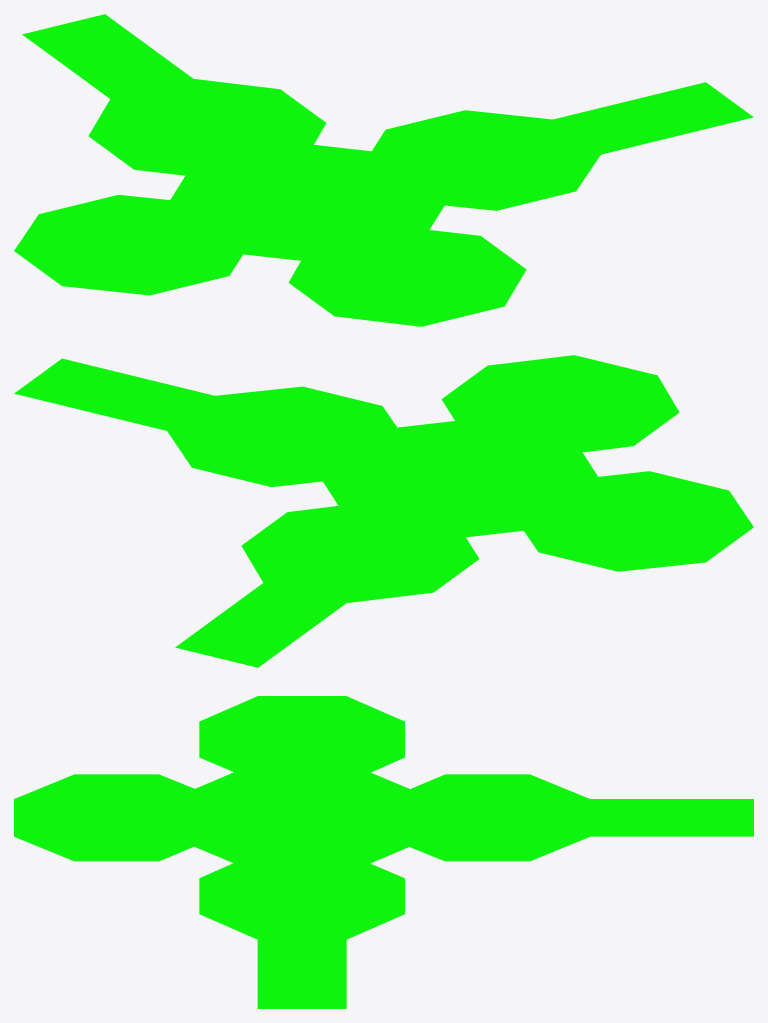
The model's file is s07a_lb1-floor.glb.
The picture shows the model from 3 angles, top to bottom: view 1: azimuth 30°, elevation 25°; view 2: azimuth 150°, elevation 25°; view 3: azimuth 270°, elevation 25°; orthographic projection. The views are drawn at different scales.
Visible parts, largest first — view 1: collision_floor-colonly; view 2: collision_floor-colonly; view 3: collision_floor-colonly.
Boxes of the visible parts, box(x1,y1,x2,y2) form: collision_floor-colonly: box(14, 14, 753, 326); collision_floor-colonly: box(14, 355, 753, 667); collision_floor-colonly: box(14, 696, 753, 1008).
Bounding box in the file's own units: 49.89 × 0 × 49.89.
